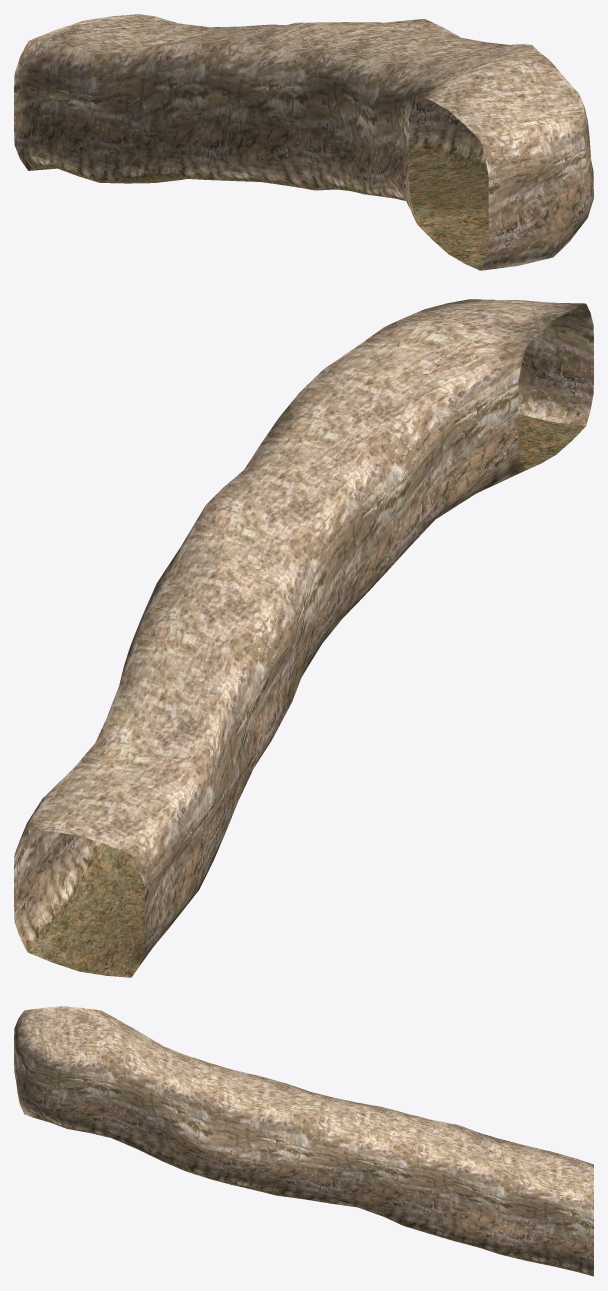
File: thm_all_cave_flatland_s03_r19_mesh_r19.fbx
The picture shows the model from 3 angles, top to bottom: view 1: azimuth 30°, elevation 25°; view 2: azimuth 150°, elevation 25°; view 3: azimuth 270°, elevation 25°; orthographic projection. The views are drawn at different scales.
Parts seen in each view (by area): view 1: mesh_node; view 2: mesh_node; view 3: mesh_node.
Boxes of the visible parts, left/top/right/bottom form: mesh_node: left=14, top=14, right=593, bottom=270; mesh_node: left=14, top=299, right=593, bottom=977; mesh_node: left=14, top=1006, right=593, bottom=1276.
Size of the model in its own units: 11.49 by 21.45 by 47.48.
